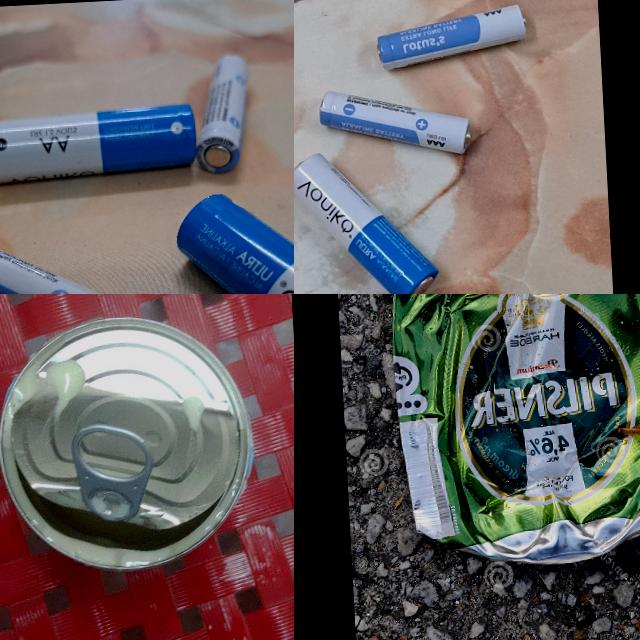aba de lata: (69, 418, 158, 522)
bateria: (294, 143, 442, 294), (0, 101, 196, 186), (314, 82, 476, 164), (0, 217, 147, 294), (372, 2, 528, 71), (195, 54, 252, 176)
lata: (381, 294, 640, 573), (0, 309, 255, 579)
